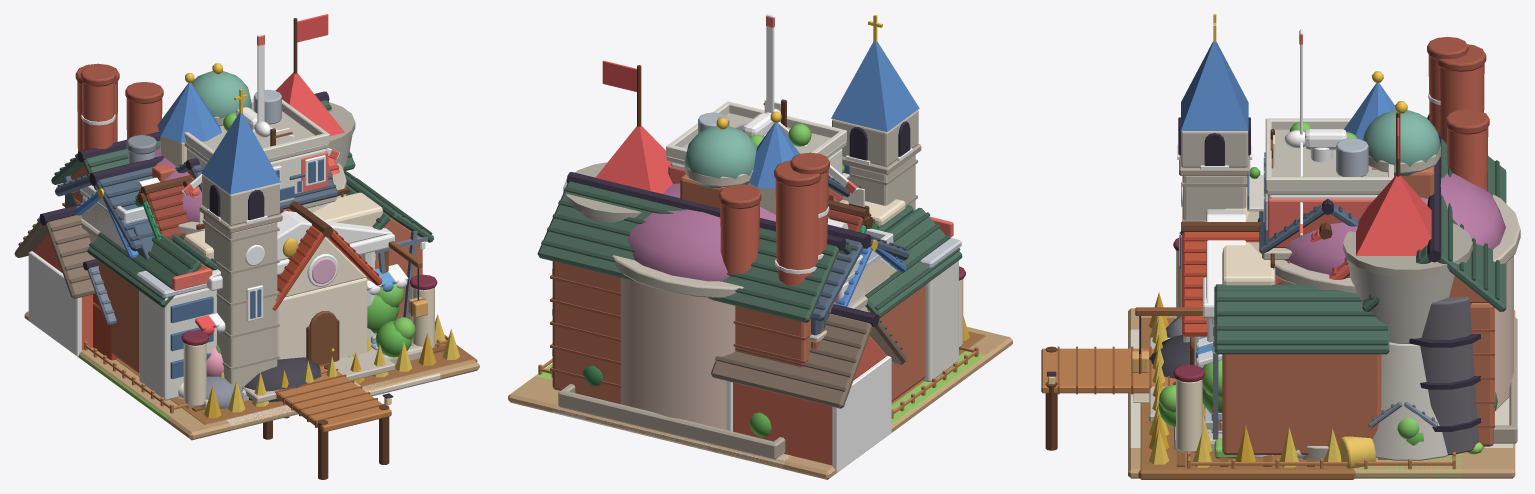
File: town.glb
3 views of the same model, side by side, from view 1: azimuth 30°, elevation 25°; view 2: azimuth 150°, elevation 25°; view 3: azimuth 270°, elevation 25° (orthographic). The views are drawn at different scales.
Visible parts, largest first — view 1: p_tower.006, p_nave, p_office, p_plate.021, p_box.024, p_pier, p_spire.001, p_sidewing, p_roof.086, p_towerroof, p_roof.050, p_facade (+57 smaller); view 2: p_drum.001, p_mainwing, p_roof.085, p_dome.003, p_roof.051, p_plate.021, p_box.023, p_box.024, p_spire.001, p_yardwall.002, p_stack.001, p_office (+36 smaller); view 3: p_sidewing.001, p_roof.089, p_furnace, p_coolinglow, p_dome.003, p_field, p_spire, p_coolinghigh, p_pier, p_plate.021, p_spire.001, p_dome.002 (+46 smaller).
Part boxes in pixels (left/top/right/bottom): p_tower.006: left=205, top=215, right=277, bottom=387; p_nave: left=277, top=278, right=367, bottom=359; p_office: left=139, top=288, right=216, bottom=400; p_plate.021: left=24, top=311, right=479, bottom=440; p_box.024: left=28, top=251, right=81, bottom=356; p_pier: left=274, top=364, right=391, bottom=432; p_spire.001: left=201, top=113, right=280, bottom=194; p_sidewing: left=98, top=261, right=139, bottom=373; p_roof.086: left=87, top=234, right=201, bottom=307; p_towerroof: left=157, top=83, right=221, bottom=142; p_roof.050: left=45, top=215, right=95, bottom=298; p_facade: left=184, top=192, right=382, bottom=268; p_drum.001: left=620, top=278, right=735, bottom=429; p_mainwing: left=552, top=261, right=810, bottom=403; p_roof.085: left=537, top=181, right=839, bottom=322; p_dome.003: left=628, top=183, right=837, bottom=281; p_roof.051: left=711, top=314, right=872, bottom=408; p_plate.021: left=508, top=326, right=1012, bottom=479; p_box.023: left=733, top=382, right=832, bottom=465; p_box.024: left=832, top=355, right=891, bottom=472; p_spire.001: left=831, top=41, right=919, bottom=131; p_yardwall.002: left=558, top=390, right=778, bottom=459; p_stack.001: left=775, top=179, right=818, bottom=285; p_office: left=922, top=260, right=958, bottom=381; p_sidewing.001: left=1222, top=354, right=1381, bottom=454; p_roof.089: left=1214, top=290, right=1389, bottom=354; p_furnace: left=1420, top=297, right=1478, bottom=454; p_coolinglow: left=1372, top=342, right=1449, bottom=460; p_dome.003: left=1284, top=173, right=1505, bottom=277; p_field: left=1138, top=317, right=1355, bottom=479; p_spire: left=1356, top=175, right=1431, bottom=255; p_coolinghigh: left=1347, top=260, right=1467, bottom=343; p_pier: left=1041, top=348, right=1175, bottom=393; p_plate.021: left=1128, top=308, right=1515, bottom=478; p_spire.001: left=1181, top=41, right=1248, bottom=130; p_dome.002: left=1363, top=110, right=1440, bottom=175.
Size of the model in its own units: 3.98 by 4.63 by 4.7.
